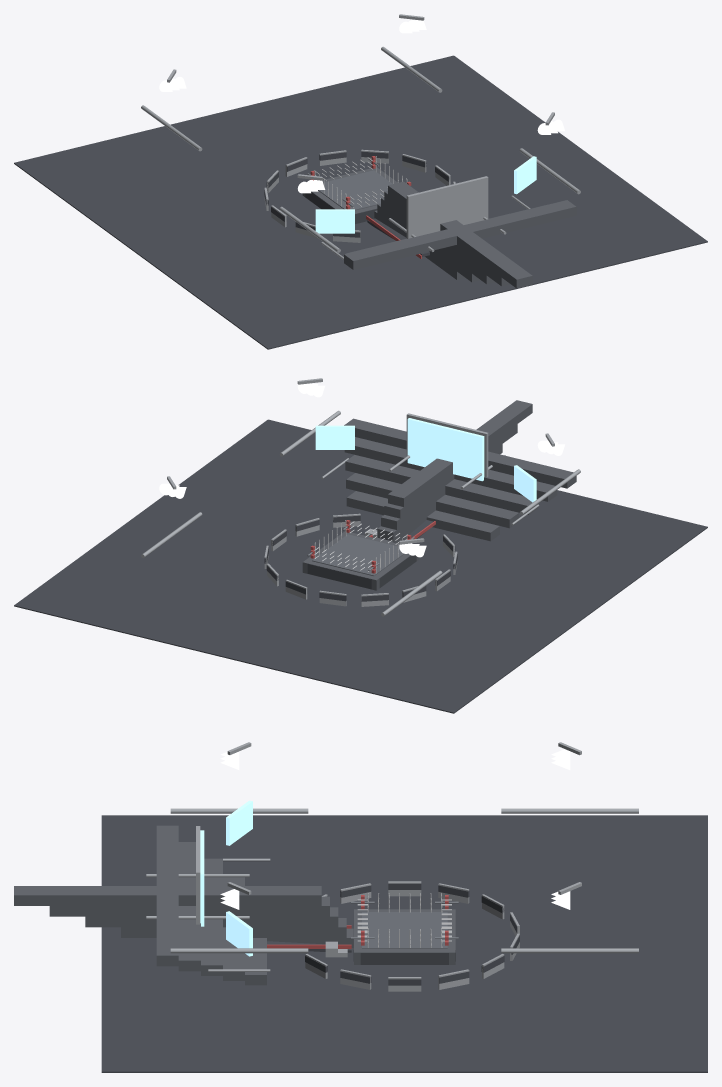
Rendered from arena_house.glb.
3 views of the same model, one above another, from view 1: azimuth 30°, elevation 25°; view 2: azimuth 150°, elevation 25°; view 3: azimuth 270°, elevation 25° (orthographic). The views are drawn at different scales.
Parts seen in each view (by area): view 1: Floor, Stand_N_T4, TronFrame, Stand_E_T4, RingCanvas, Stand_S_T4, Screen_W, Stand_E_T3, Stand_E_T2, Stand_E_T1, Screen_E, RingPlatform (+1 smaller); view 2: Floor, Titantron, Stand_N_T2, Stand_E_T4, Stand_N_T4, Stand_N_T1, RingCanvas, Stand_N_T3, Stand_N_T0, RingPlatform, Stand_E_T3, Screen_E (+10 smaller); view 3: Floor, Stand_E_T4, Stand_N_T4, RingCanvas, Stand_E_T3, Stand_E_T2, Stand_N_T3, Stand_W_T4, Stand_N_T2, Stand_E_T1, RingPlatform, Apron_E (+12 smaller).
Boxes of the visible parts, x1,y1,x2,y2 form: Floor: (14, 55, 707, 349); Stand_N_T4: (344, 200, 576, 269); TronFrame: (406, 176, 488, 238); Stand_E_T4: (388, 181, 532, 288); RingCanvas: (318, 170, 392, 210); Stand_S_T4: (344, 201, 575, 269); Screen_W: (315, 209, 354, 233); Stand_E_T3: (384, 191, 510, 286); Stand_E_T2: (381, 197, 495, 284); Stand_E_T1: (377, 203, 480, 282); Screen_E: (514, 156, 536, 194); RingPlatform: (302, 167, 397, 224); Floor: (14, 419, 707, 713); Titantron: (407, 418, 484, 481); Stand_N_T2: (345, 455, 538, 514); Stand_E_T4: (388, 400, 532, 506); Stand_N_T4: (344, 418, 576, 488); Stand_N_T1: (346, 473, 518, 528); RingCanvas: (312, 534, 404, 575); Stand_N_T3: (344, 437, 557, 501); Stand_N_T0: (346, 491, 499, 541); RingPlatform: (302, 531, 419, 590); Stand_E_T3: (384, 424, 517, 518); Screen_E: (315, 425, 354, 449); Floor: (101, 815, 707, 1072); Stand_E_T4: (14, 886, 321, 905); Stand_N_T4: (156, 825, 178, 966); RingCanvas: (362, 912, 447, 948); Stand_E_T3: (49, 896, 329, 916); Stand_E_T2: (85, 907, 338, 927); Stand_N_T3: (178, 842, 200, 971); Stand_W_T4: (14, 886, 321, 905); Stand_N_T2: (201, 858, 222, 975); Stand_E_T1: (121, 918, 346, 937); RingPlatform: (354, 909, 455, 964); Apron_E: (360, 953, 448, 964).
Size of the model in its own units: 44 by 10.23 by 50.36.
